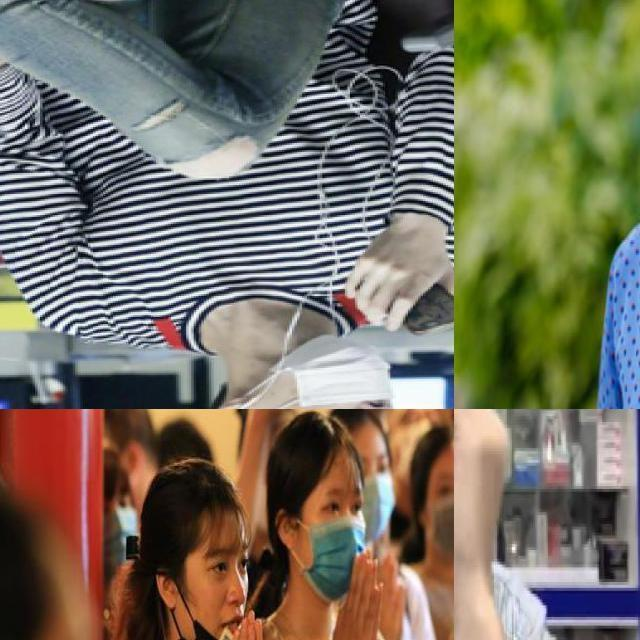hairnet: (160, 568, 253, 640)
mask: (286, 512, 376, 602), (354, 462, 397, 544), (422, 492, 454, 557)
no_gloves: (136, 456, 257, 564), (262, 408, 375, 509), (408, 423, 453, 501), (338, 406, 394, 468)
